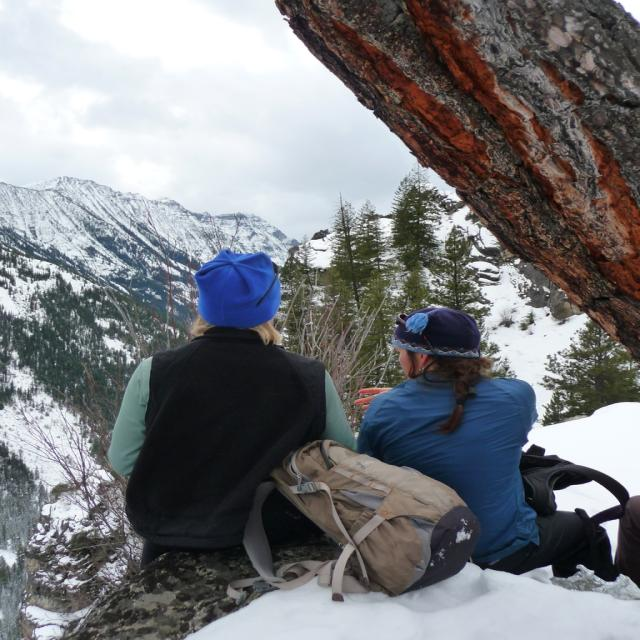backpack: (262, 443, 488, 591)
